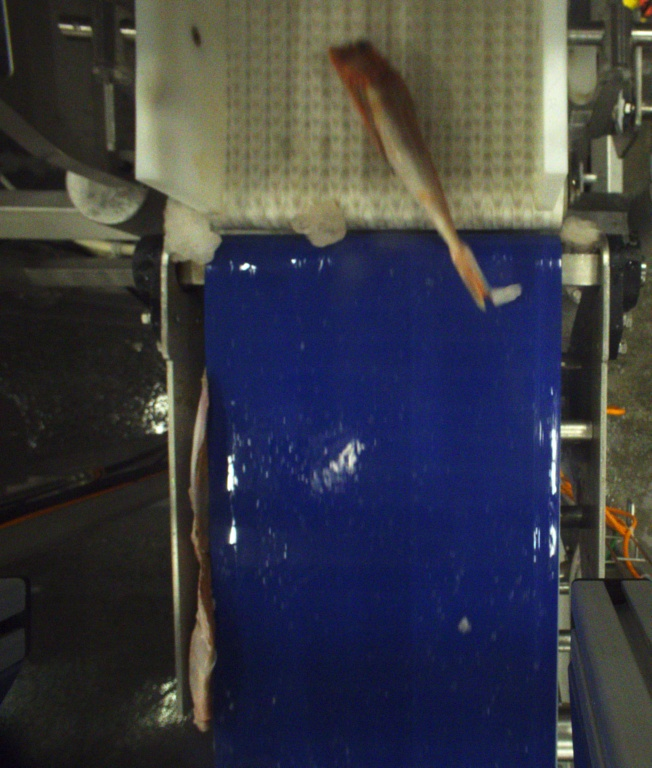GUU: (327, 37, 495, 310)
